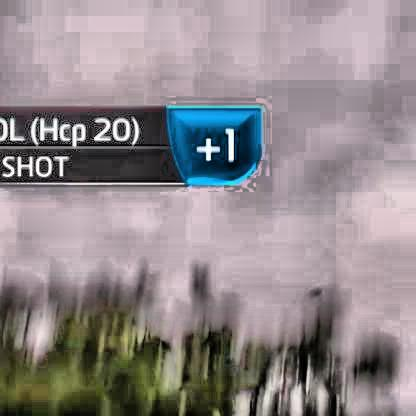golfball: (308, 283, 319, 294)
